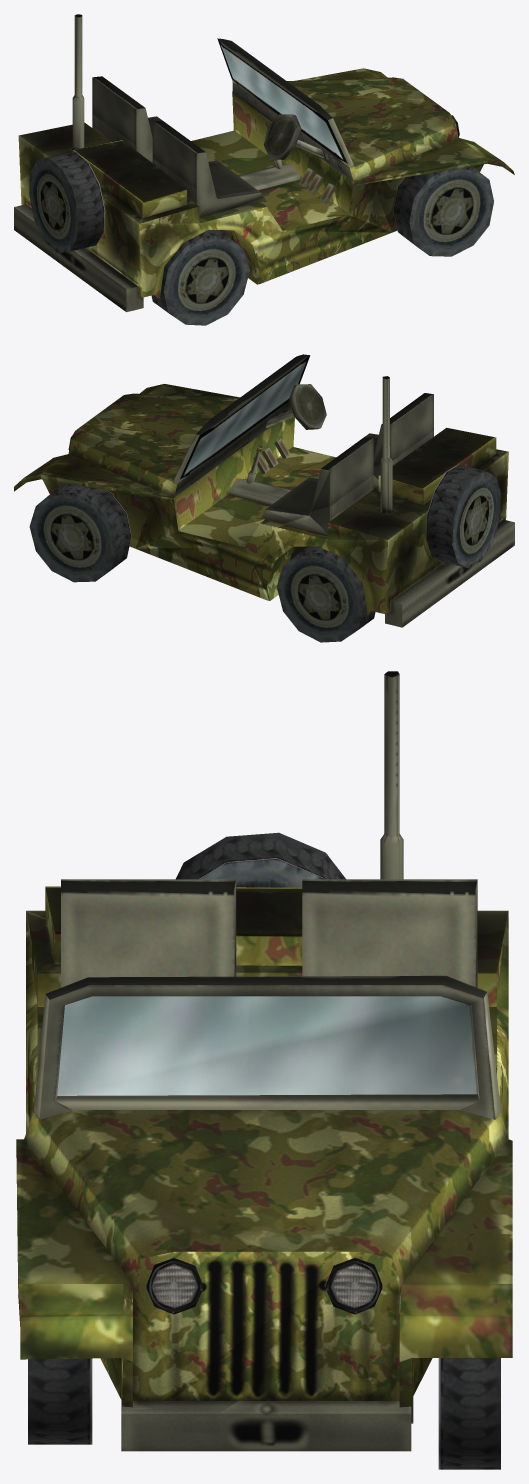
The model's file is jeep.obj.
3 views of the same model, one above another, from view 1: azimuth 30°, elevation 25°; view 2: azimuth 150°, elevation 25°; view 3: azimuth 270°, elevation 25° (orthographic). The views are drawn at different scales.
Visible parts, largest first — view 1: Group; view 2: Group; view 3: Group.
Boxes of the visible parts, box(x1,y1,x2,y2) form: Group: box(14, 14, 514, 325); Group: box(14, 354, 514, 642); Group: box(16, 671, 512, 1469).
Bounding box in the file's own units: 755 × 457 × 405.
Materials: 1 (1 with a texture image).
